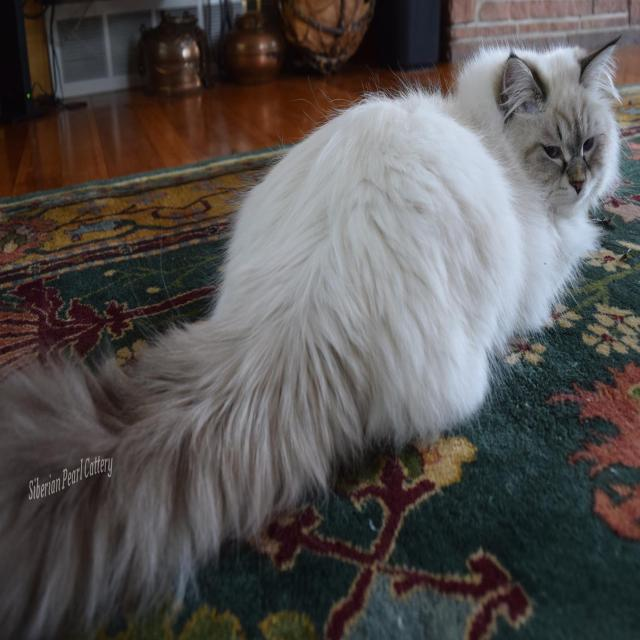Neva Masquerade: (0, 27, 629, 640)
